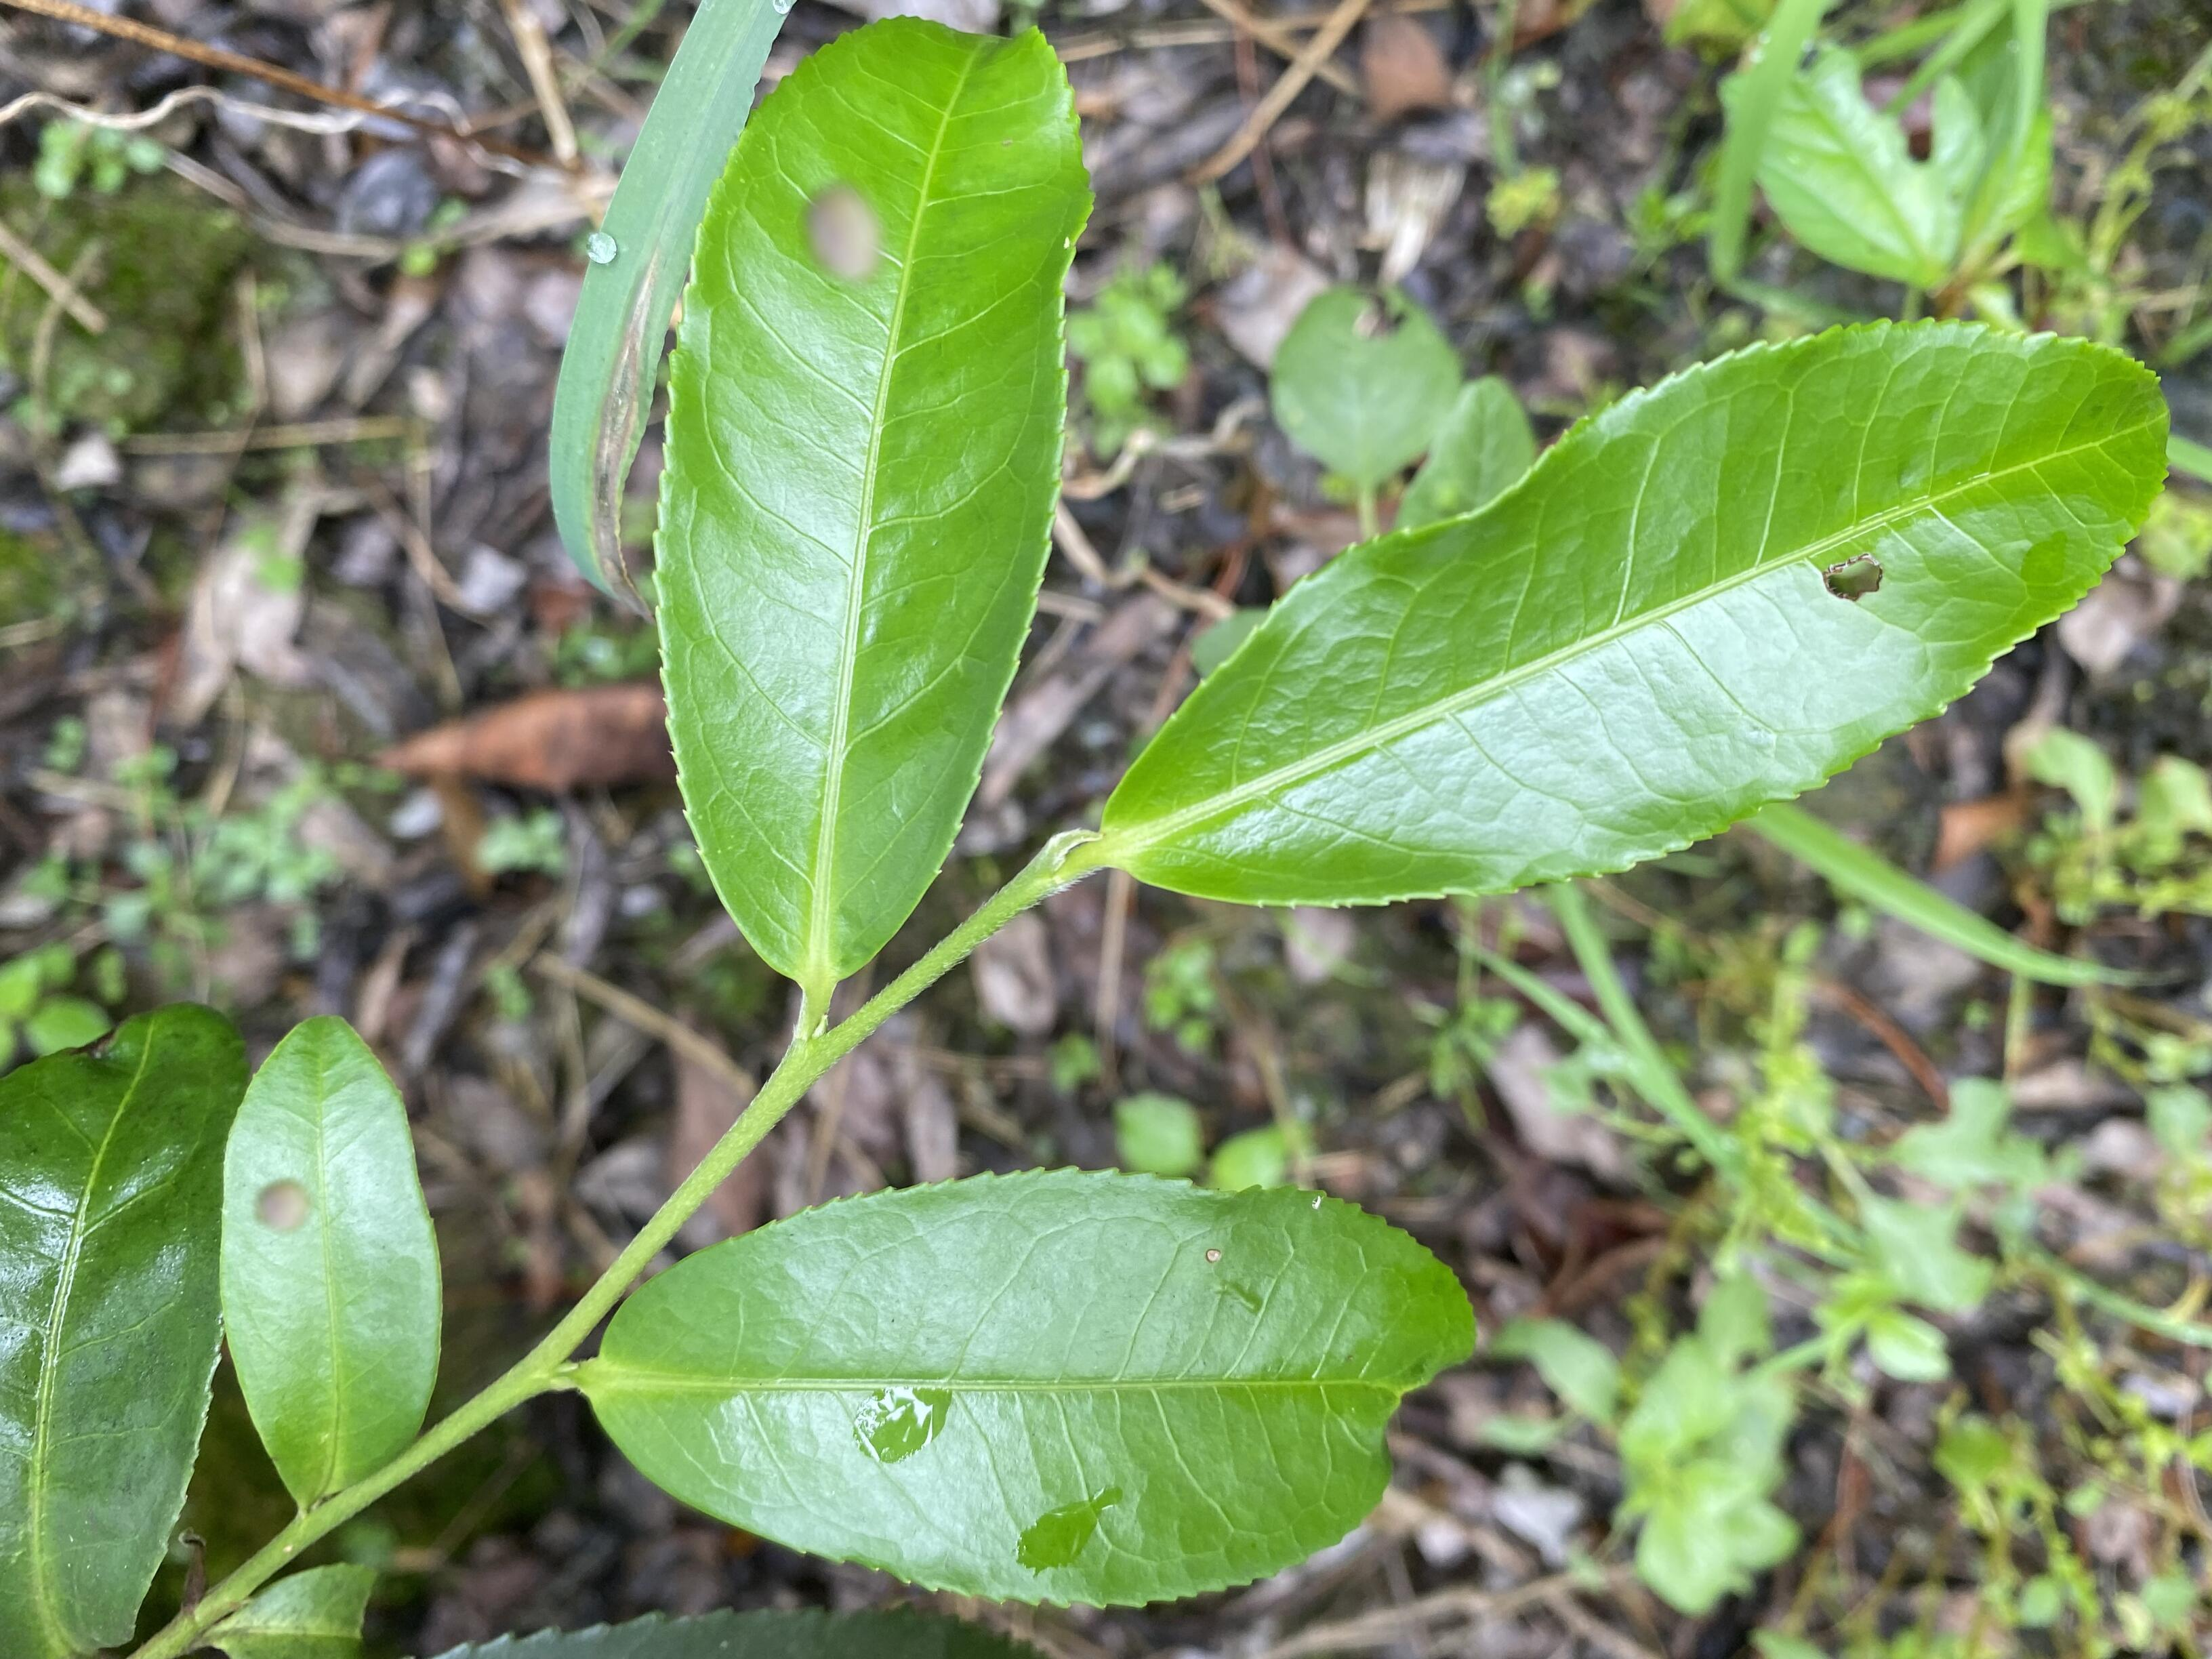chabing_low: (648, 16, 1096, 988), (221, 1012, 442, 1506)
chihuo_low: (1109, 319, 2177, 897), (611, 1164, 1482, 1615)
